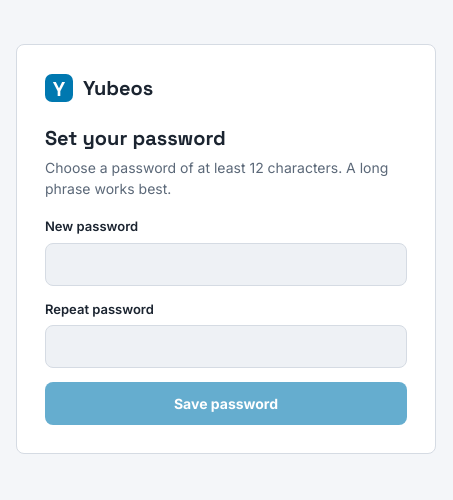
Scenario: setup page › validates locally, sends the token, then removes it from the address bar
Type "short" into the password field labelled "New password" at point(226, 264), box [45,242,407,286]
Type "short" into the password field labelled "Repeat password" at point(226, 346), box [45,325,407,368]
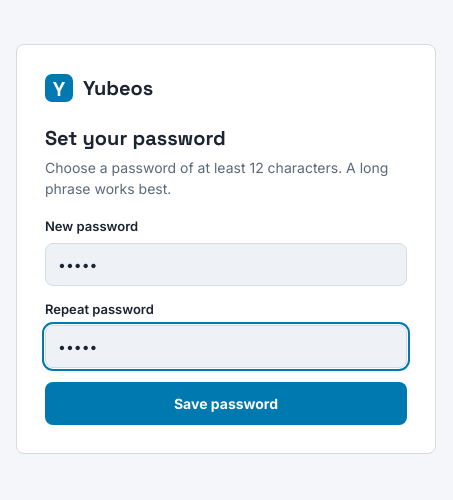
Click the button "Save password" at point(226, 404), box [45,382,407,425]
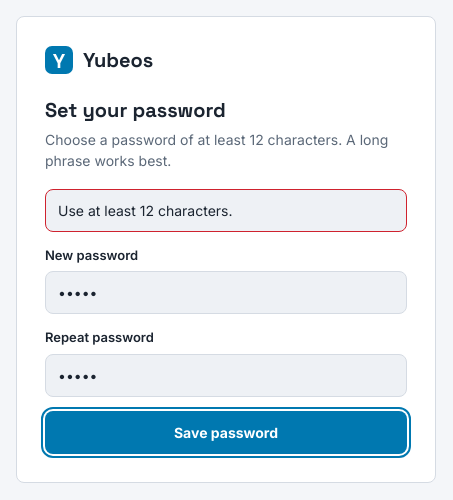
Now the text "Use at least 12 characters." is shown, box [45,188,407,232]
Type "a-long-enough-password" into the password field labelled "New password" at point(226, 292), box [45,271,407,314]
Type "different-password-1" into the password field labelled "Repeat password" at point(226, 375), box [45,354,407,396]
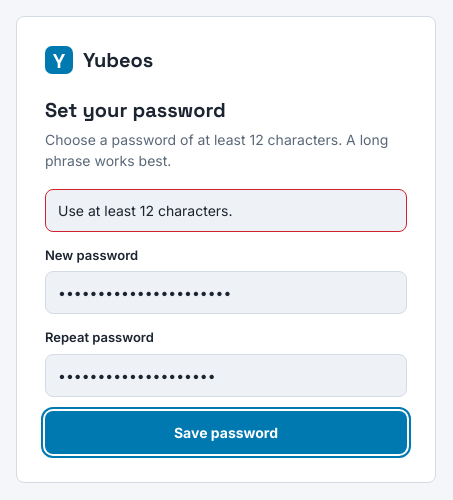
Click the button "Save password" at point(226, 432), box [45,410,407,454]
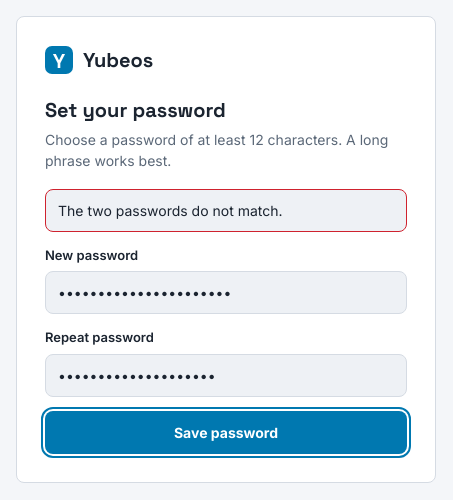
Now the text "The two passwords do not match." is shown, box [45,188,407,232]
Type "a-long-enough-password" into the password field labelled "Repeat password" at point(226, 375), box [45,354,407,396]
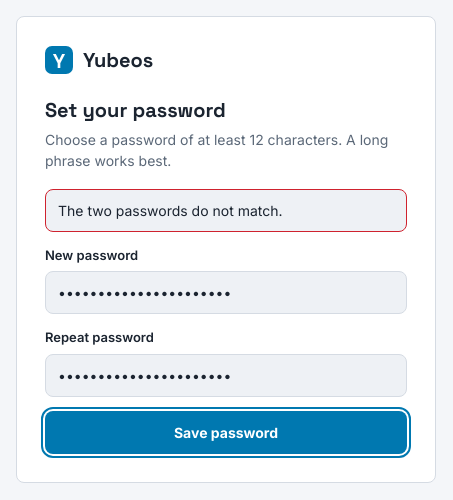
Click the button "Save password" at point(226, 432), box [45,410,407,454]
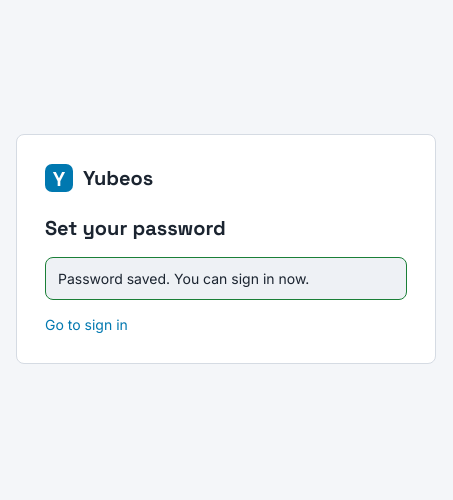
Now the text "Password saved. You can sign in now." is shown, box [45,257,407,300]
